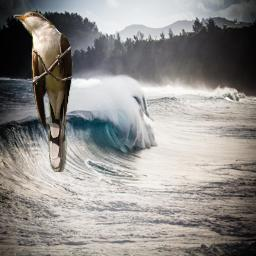Cuckoo: (13, 11, 73, 172)
